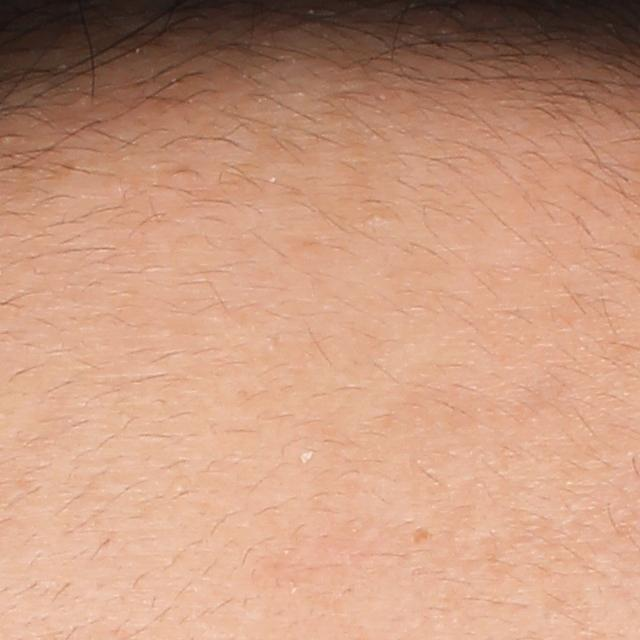atrophic_scar: (410, 527, 432, 544)
